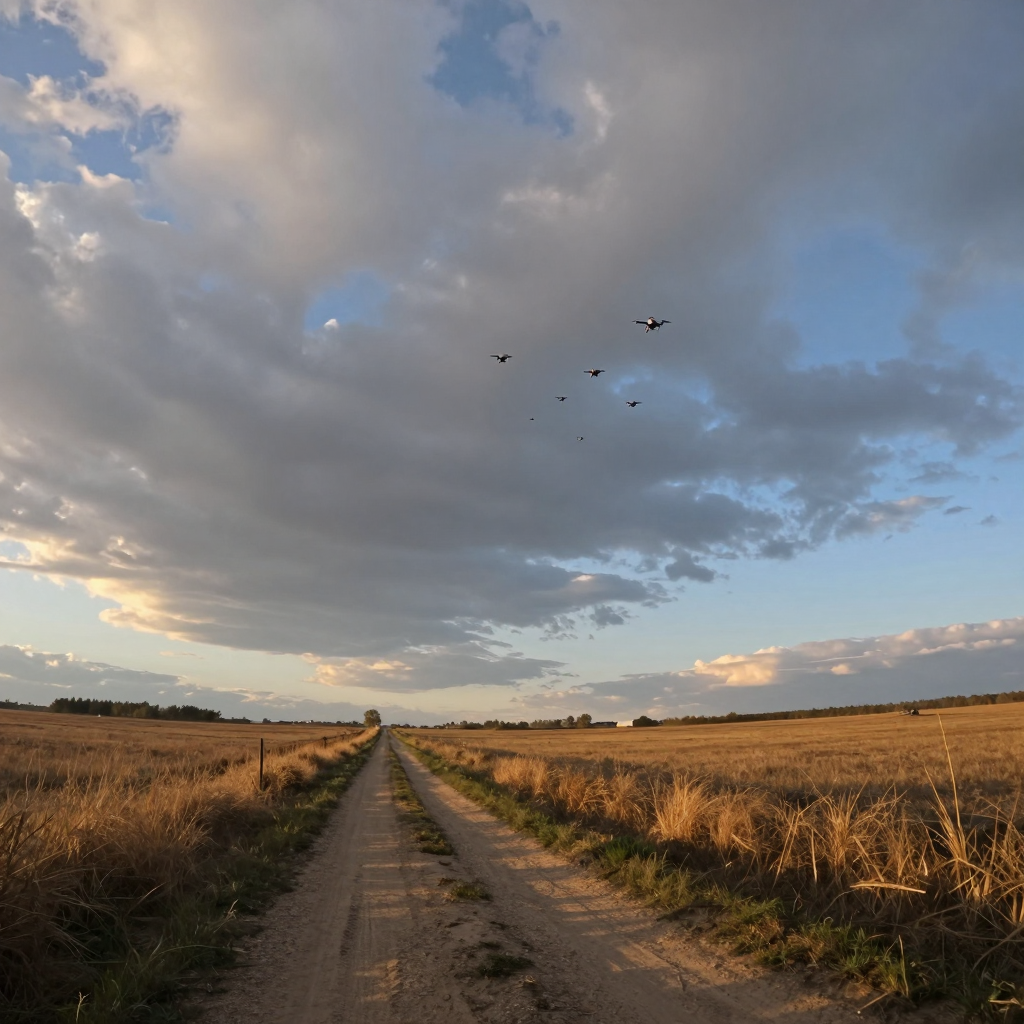drone: (632, 317, 671, 333), (490, 354, 512, 364), (583, 369, 605, 378), (625, 401, 643, 408), (554, 396, 568, 402), (576, 437, 584, 442), (529, 418, 535, 421)
